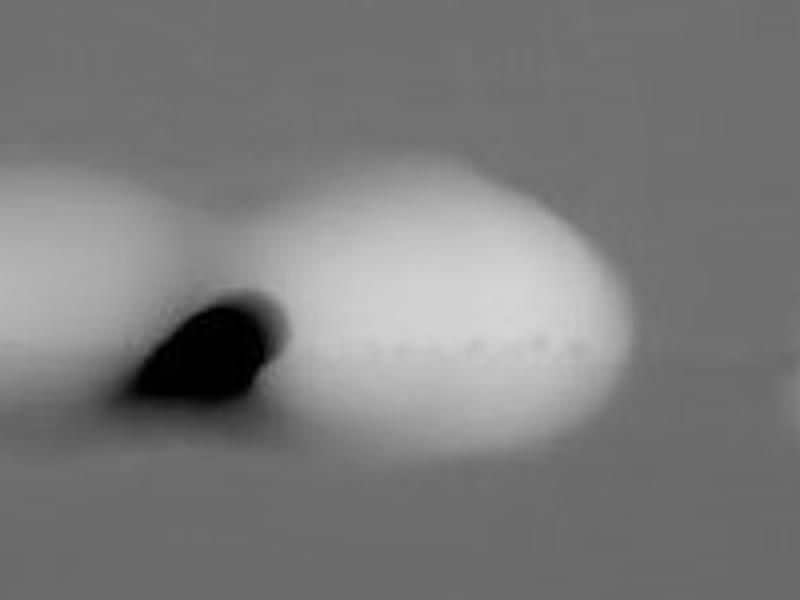defect: (133, 304, 271, 405)
